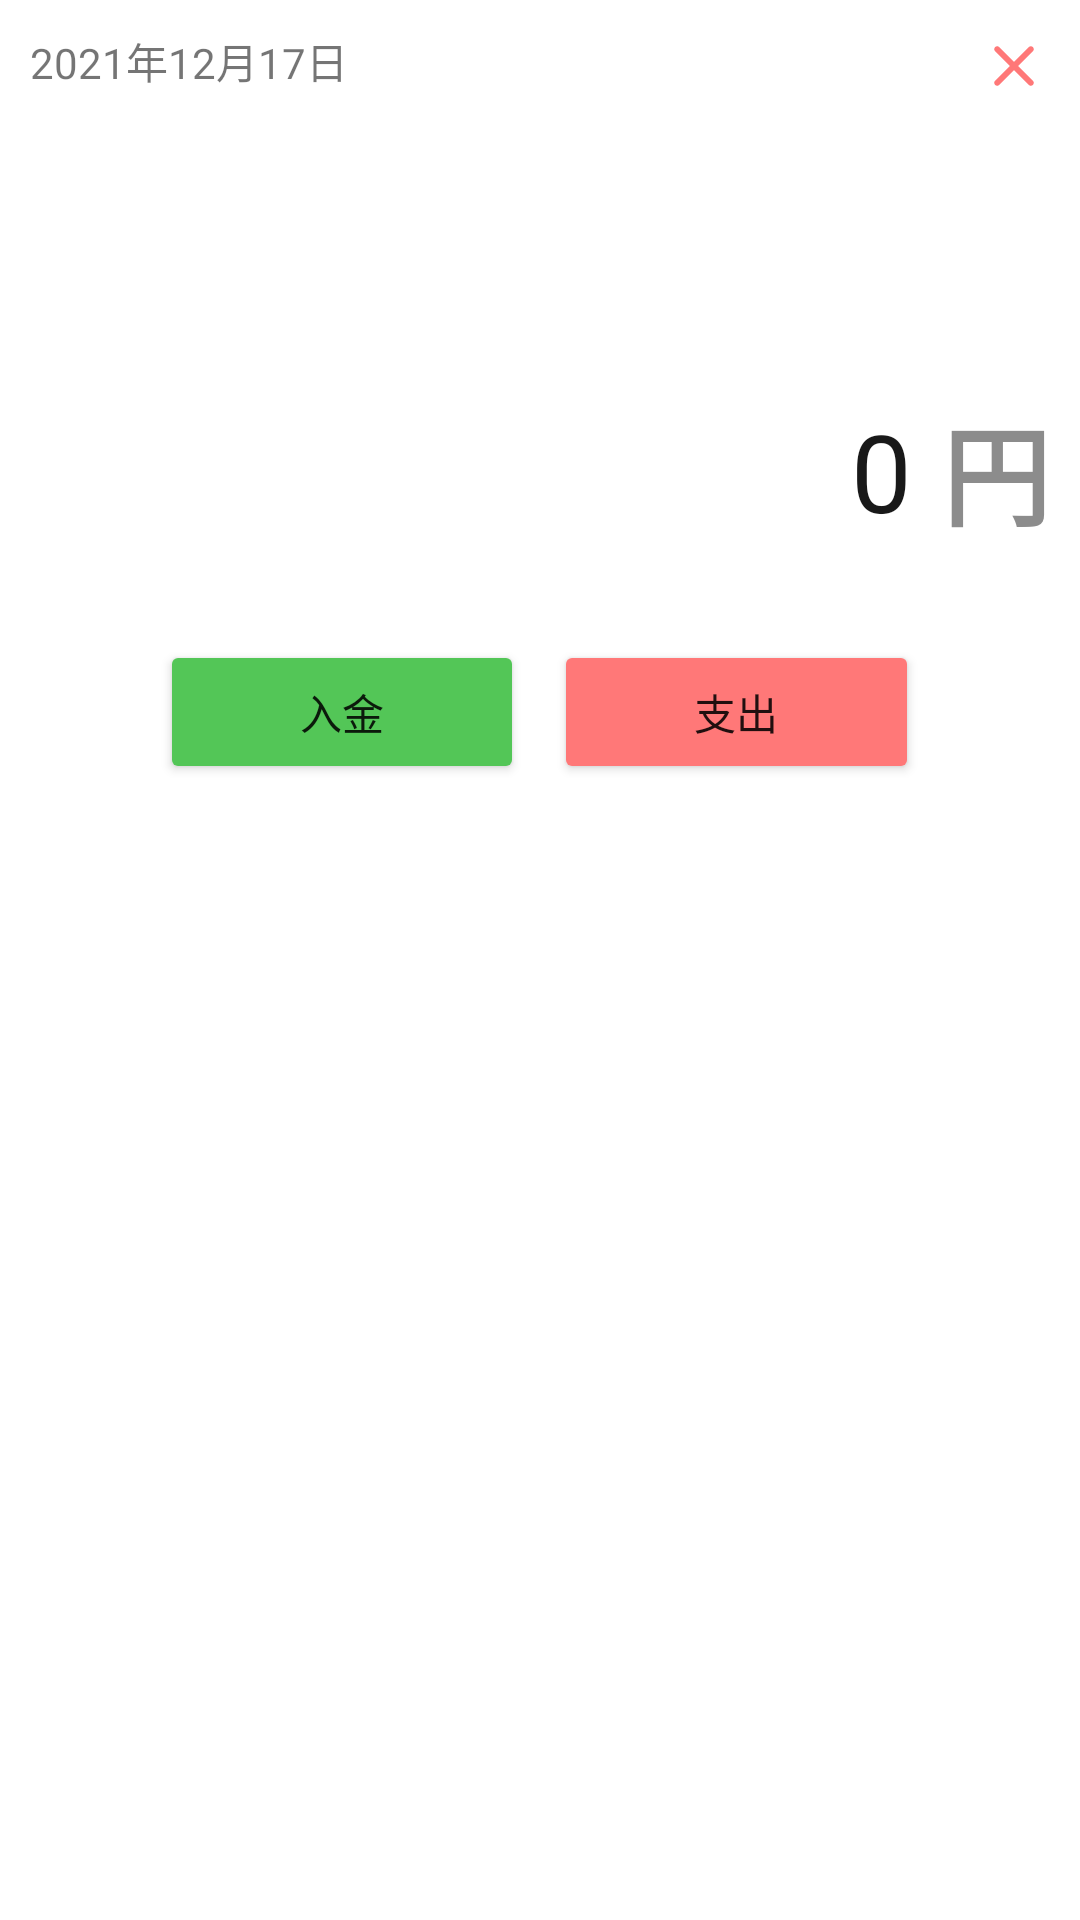

Point at icon controls on the screen. Image size 1080*1920, points as (x=x, y=y).
close: (x=1014, y=66)
